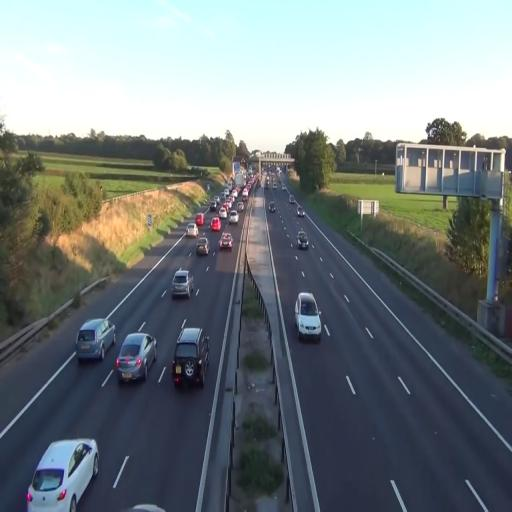vehicle: (26, 438, 99, 512), (172, 324, 208, 387), (115, 331, 157, 384), (76, 317, 116, 362), (172, 338, 206, 389), (294, 292, 322, 342), (171, 268, 196, 301), (219, 231, 233, 252), (196, 237, 210, 256), (296, 231, 310, 249), (227, 208, 239, 224)
